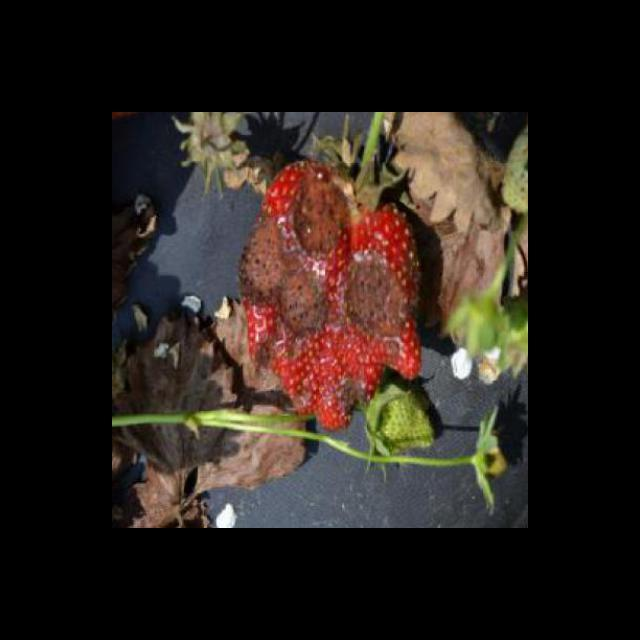Anthracnose Fruit Rot: (234, 160, 421, 432)
